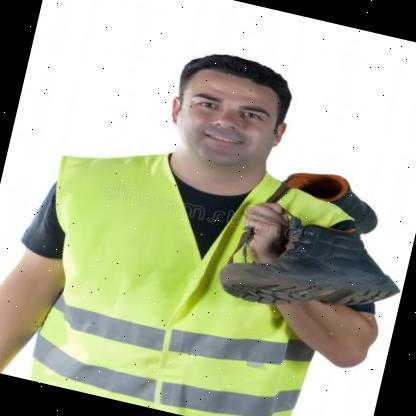bota: (212, 188, 416, 336)
